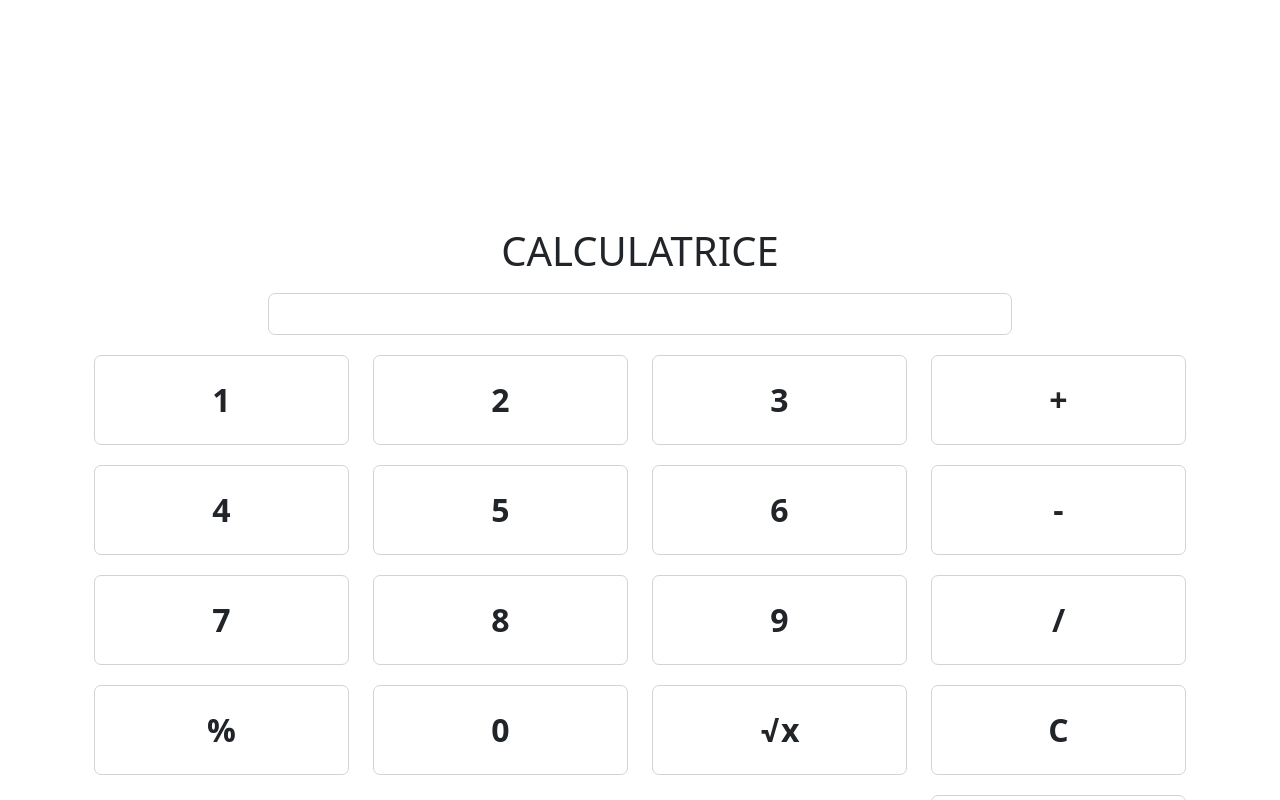
Scenario: test substraction fonctional
(page scrolled)
What coordinates should you click on to do the following:
click the text with class "touch" showing "1"
I would click on:
 (222, 400)
Its box is [94,355,349,445].
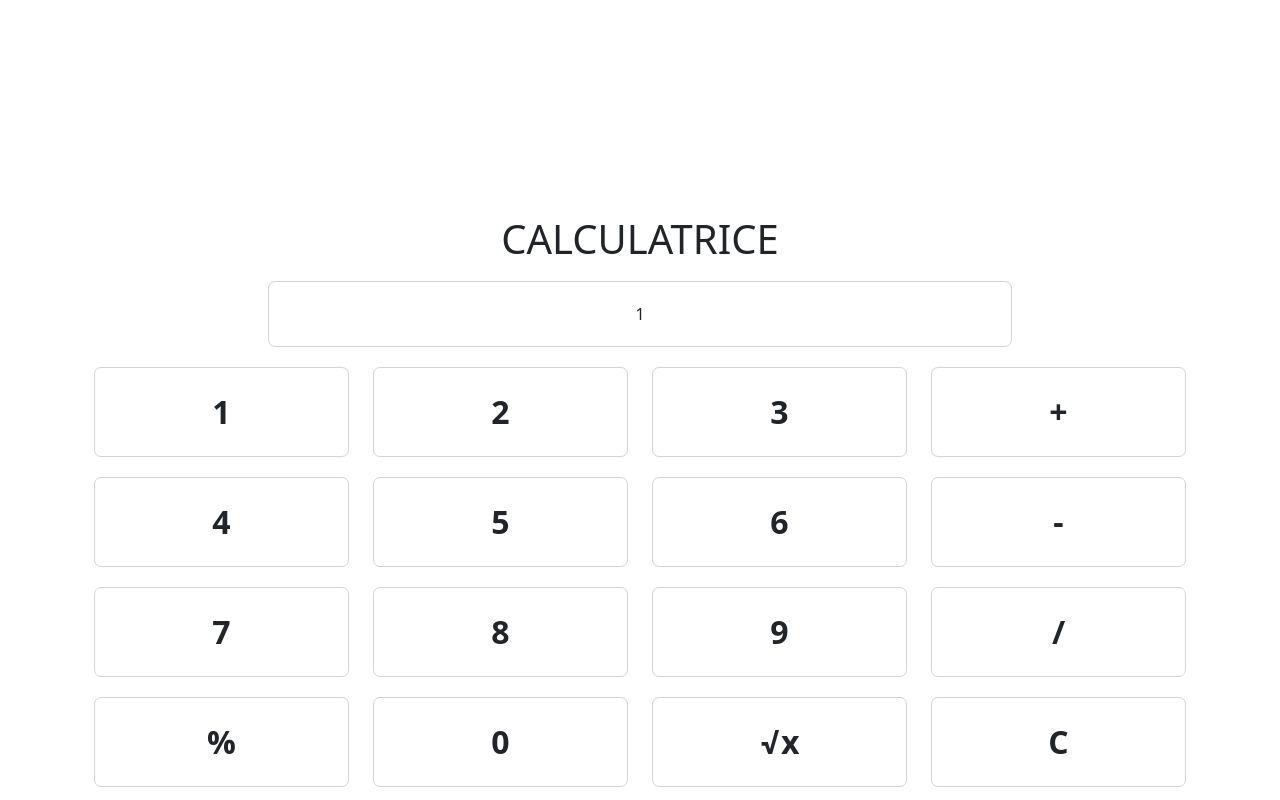
What coordinates should you click on to do the following:
click the text with class "touch" showing "-"
I would click on:
 (1058, 522)
Its box is [931,477,1186,567].
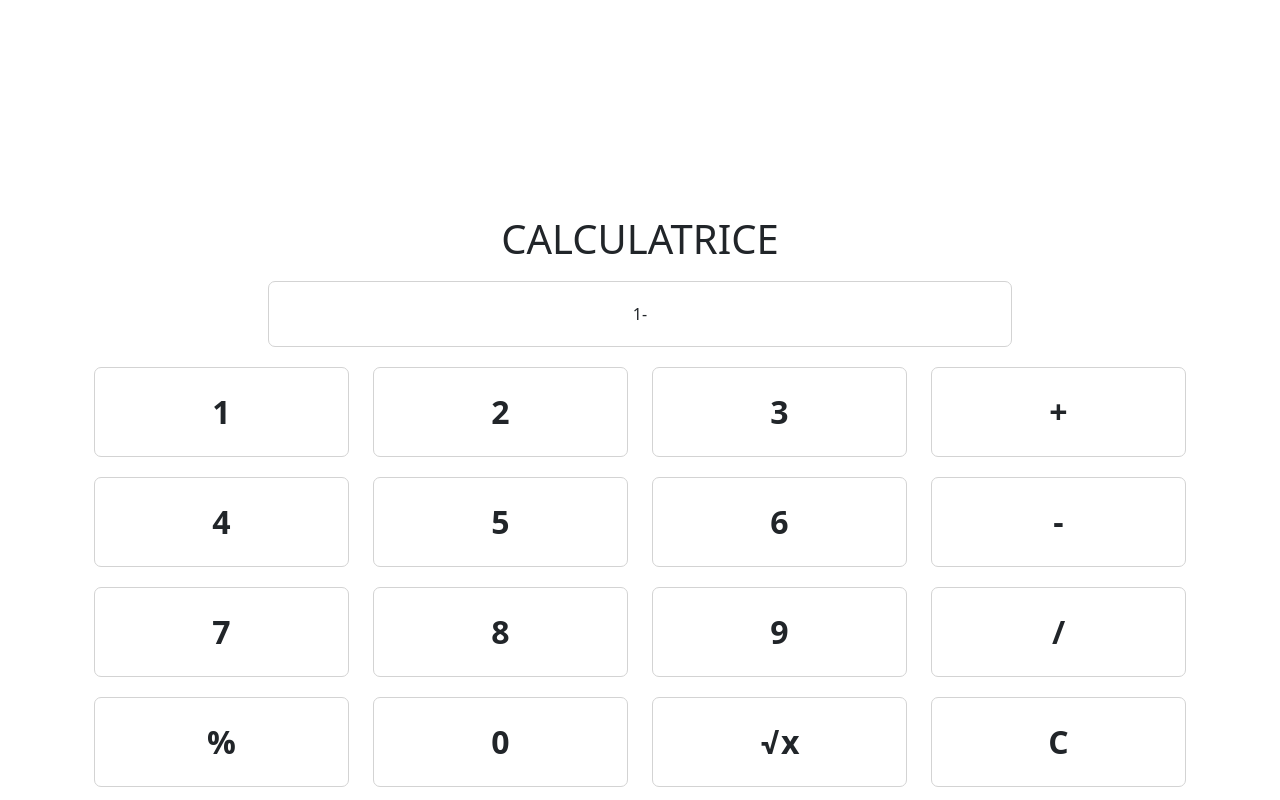
What coordinates should you click on to do the following:
click the text with class "touch" showing "1"
I would click on:
 (222, 412)
Its box is [94,367,349,457].
(page scrolled)
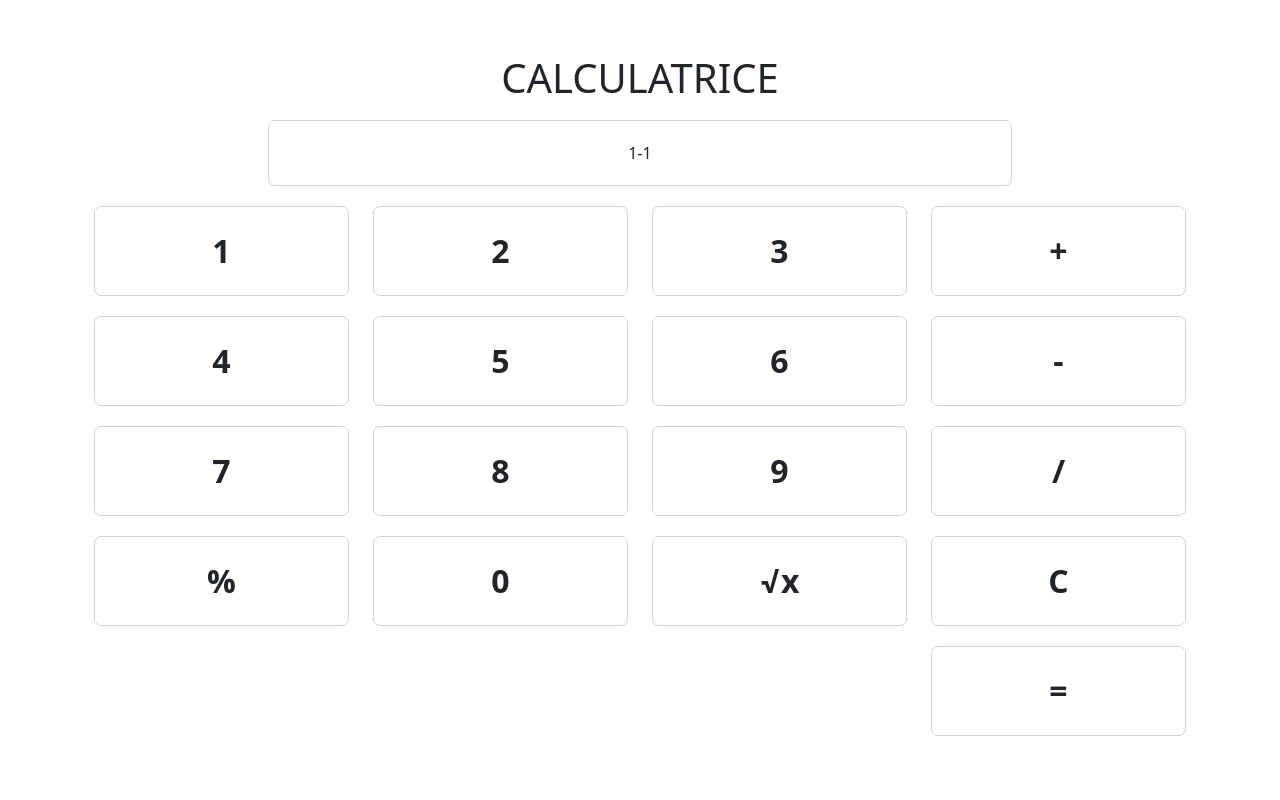
What coordinates should you click on to do the following:
click the text with class "touch" showing "="
I would click on:
 (1058, 691)
Its box is [931,646,1186,736].
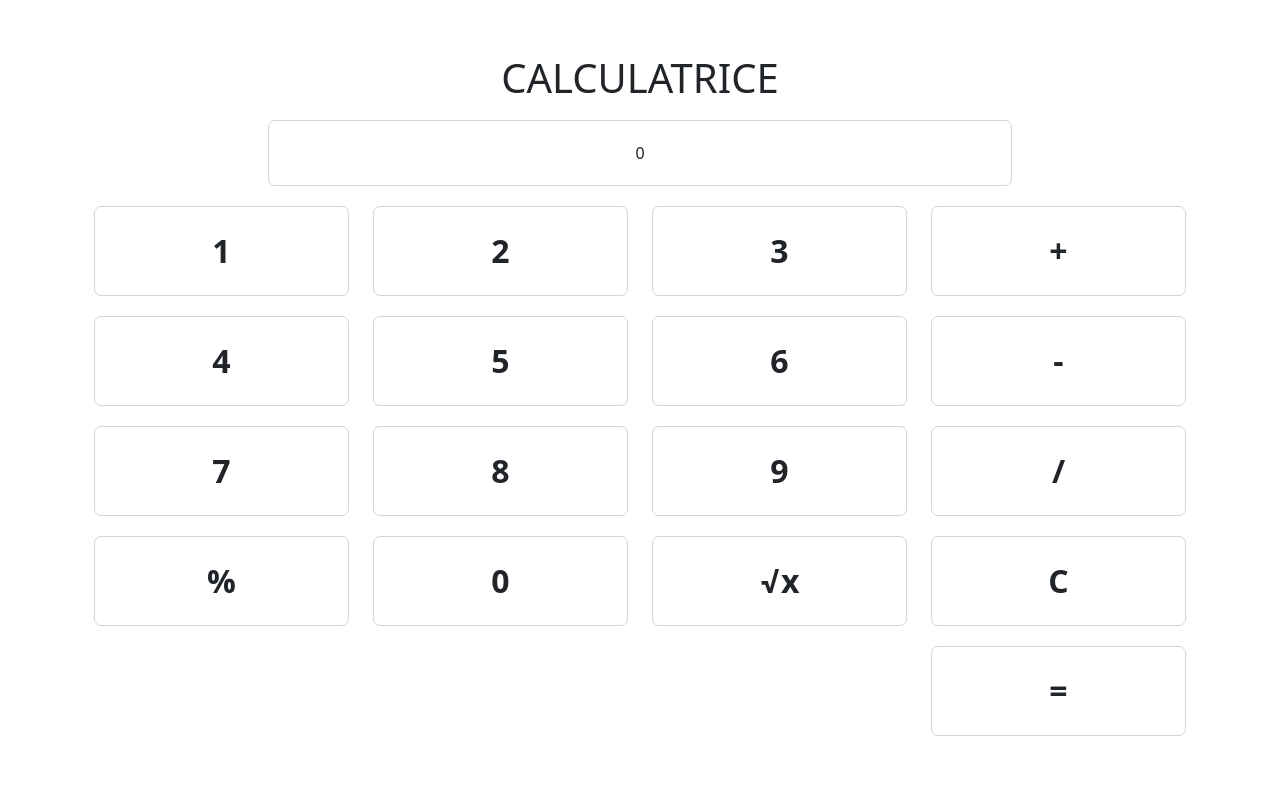
Expected: the text with class "result" reads "0", [635,142,645,164]
